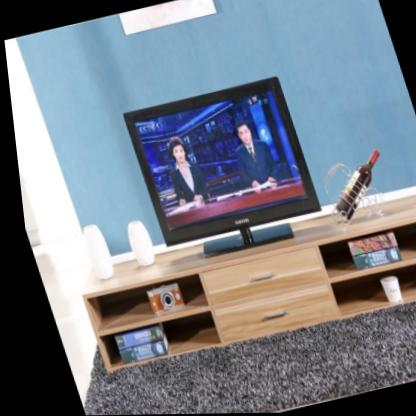Carpet: (74, 300, 416, 416)
TV stand: (75, 193, 416, 374)
